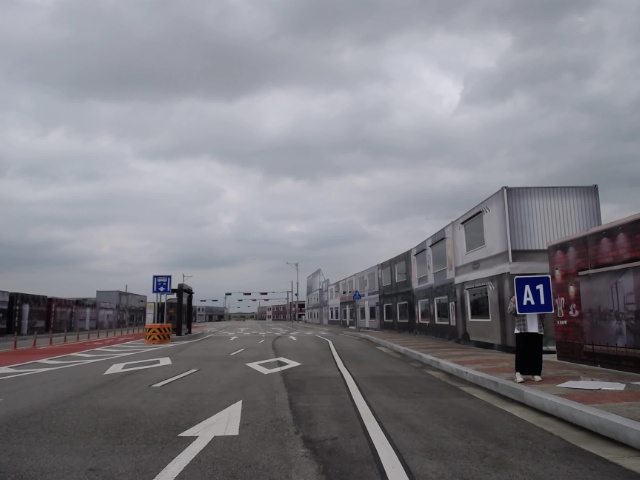delivery_a1: (515, 276, 555, 314)
